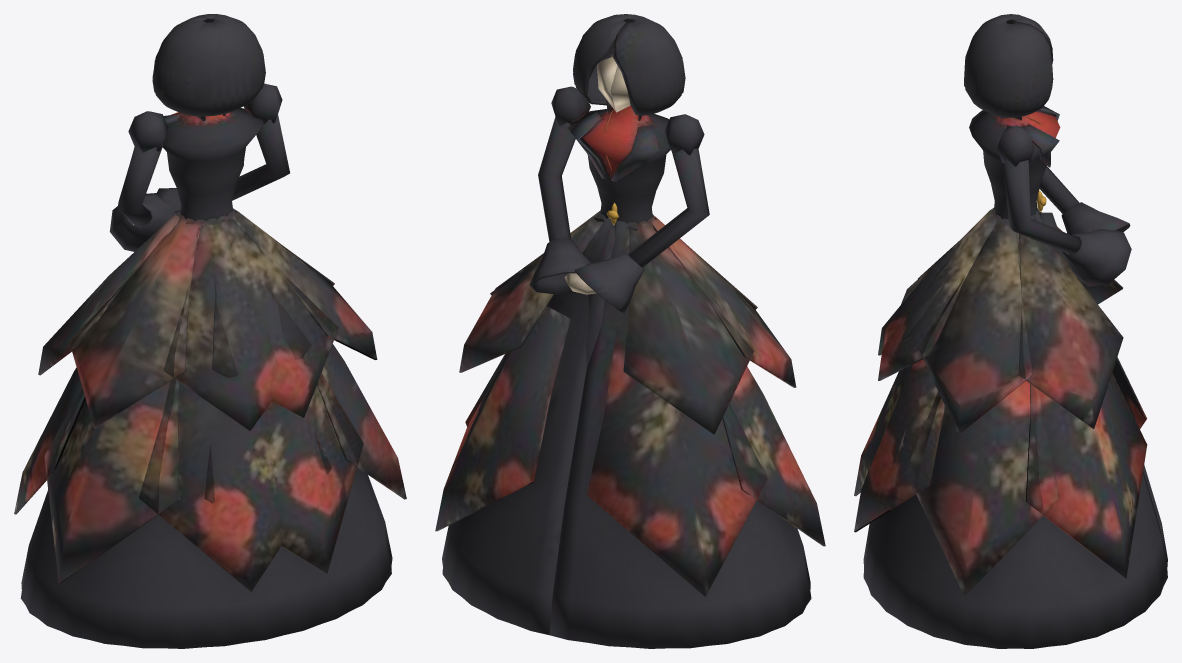
The model's file is paper_lady.glb.
3 views of the same model, side by side, from view 1: azimuth 30°, elevation 25°; view 2: azimuth 150°, elevation 25°; view 3: azimuth 270°, elevation 25° (orthographic). The views are drawn at different scales.
Parts seen in each view (by area): view 1: prop_paper_lady_felt, prop_upper_body_felt, prop_head_pivot_felt; view 2: prop_paper_lady_felt, prop_upper_body_felt, prop_head_pivot_felt; view 3: prop_paper_lady_felt, prop_upper_body_felt, prop_head_pivot_felt.
Boxes of the visible parts, x1=… form: prop_paper_lady_felt: x1=14, y1=208, x2=406, y2=648; prop_upper_body_felt: x1=109, y1=83, x2=289, y2=251; prop_head_pivot_felt: x1=152, y1=14, x2=265, y2=116; prop_paper_lady_felt: x1=435, y1=210, x2=825, y2=648; prop_upper_body_felt: x1=529, y1=86, x2=709, y2=313; prop_head_pivot_felt: x1=573, y1=14, x2=685, y2=115; prop_paper_lady_felt: x1=854, y1=208, x2=1167, y2=648; prop_upper_body_felt: x1=969, y1=106, x2=1131, y2=286; prop_head_pivot_felt: x1=964, y1=14, x2=1053, y2=117.
Bounding box in the file's own units: 1.01 × 1.56 × 0.811.
4 materials, 3 textured.
